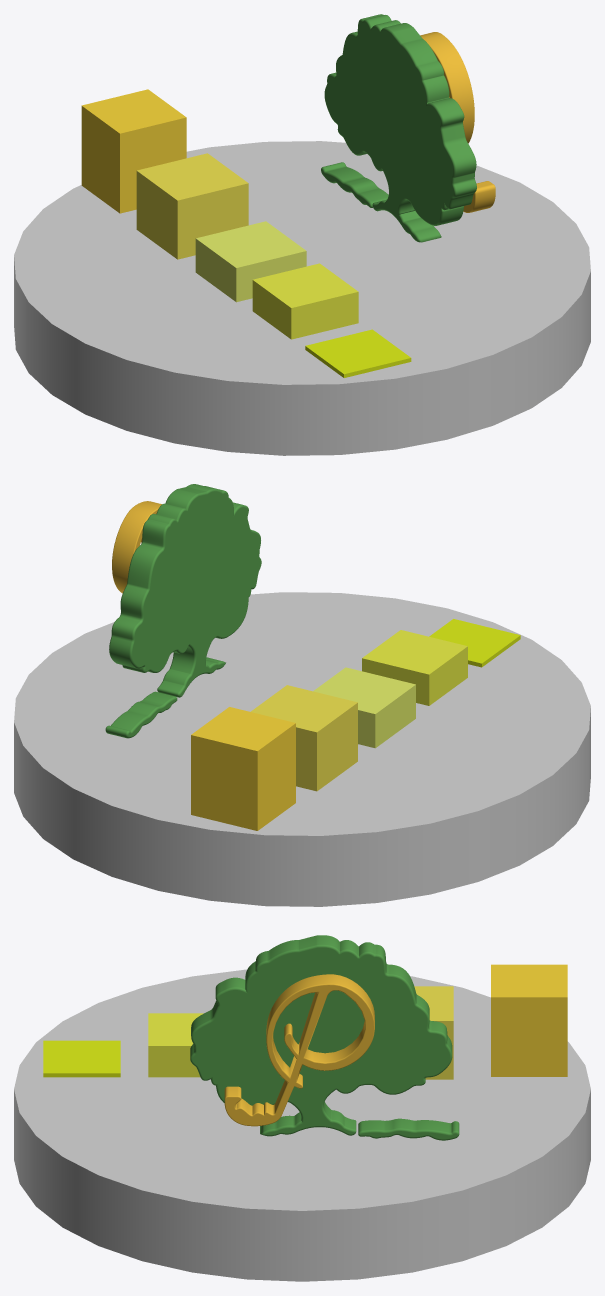
Rendered from statsprovidence.gltf.
3 views of the same model, one above another, from view 1: azimuth 30°, elevation 25°; view 2: azimuth 150°, elevation 25°; view 3: azimuth 270°, elevation 25° (orthographic).
Visible parts, largest first — view 1: Cylinder, Curve.001, Cube.004, Cube.003, Cube.001, Cube.002, Cube, Curve.002; view 2: Cylinder, Curve.001, Cube.004, Cube.003, Cube.001, Cube.002, Cube, Curve.002; view 3: Cylinder, Curve.001, Cube.004, Curve.002, Cube.001, Cube, Cube.003.
Boxes of the visible parts, x1,y1,x2,y2 form: Cylinder: (14, 141, 590, 455); Curve.001: (321, 14, 476, 242); Cube.004: (81, 89, 186, 213); Cube.003: (136, 153, 248, 259); Cube.001: (252, 263, 358, 339); Cube.002: (195, 221, 306, 302); Cube: (305, 329, 411, 377); Curve.002: (420, 32, 495, 212); Cylinder: (14, 592, 590, 906); Curve.001: (105, 484, 261, 738); Cube.004: (191, 707, 295, 830); Cube.003: (250, 685, 357, 791); Cube.001: (362, 630, 467, 705); Cube.002: (313, 667, 415, 748); Cube: (429, 619, 520, 667); Curve.002: (112, 501, 161, 593); Cylinder: (14, 969, 590, 1281); Curve.001: (190, 935, 459, 1140); Cube.004: (491, 964, 567, 1076); Curve.002: (224, 974, 374, 1126); Cube.001: (148, 1013, 203, 1077); Cube: (43, 1040, 120, 1077); Cube.003: (414, 986, 453, 1079).
Size of the model in its own units: 2.67 by 1.39 by 2.67.
